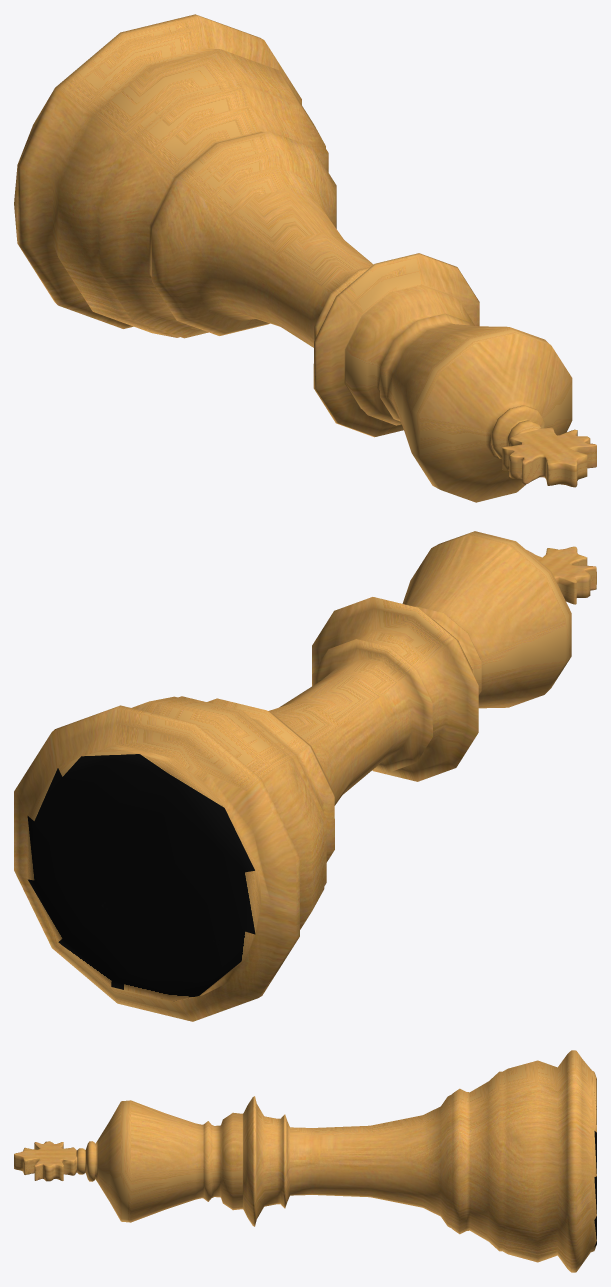
File: Re_Bianco_1-5k.obj
The picture shows the model from 3 angles, top to bottom: view 1: azimuth 30°, elevation 25°; view 2: azimuth 150°, elevation 25°; view 3: azimuth 270°, elevation 25°; orthographic projection. The views are drawn at different scales.
Visible parts, largest first — view 1: 12926_Wooden_Chess_King_Side_A_v1_l3; view 2: 12926_Wooden_Chess_King_Side_A_v1_l3; view 3: 12926_Wooden_Chess_King_Side_A_v1_l3.
Boxes of the visible parts, left/top/right/bottom form: 12926_Wooden_Chess_King_Side_A_v1_l3: left=14, top=14, right=596, bottom=502; 12926_Wooden_Chess_King_Side_A_v1_l3: left=14, top=531, right=596, bottom=1021; 12926_Wooden_Chess_King_Side_A_v1_l3: left=14, top=1050, right=596, bottom=1272.
Size of the model in its own units: 4.38 by 4.35 by 11.61.
1 material, 1 textured.
